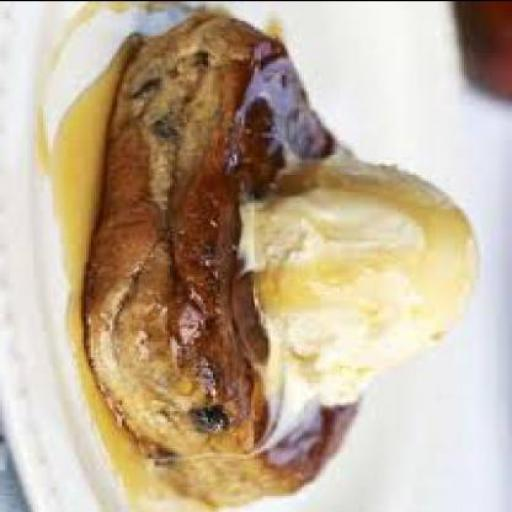biodegradable: (84, 8, 486, 510), (244, 150, 486, 410)
